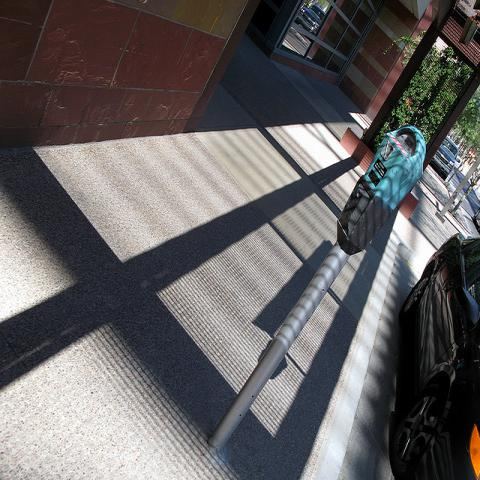car: (388, 235, 480, 475)
truck: (430, 136, 461, 182)
